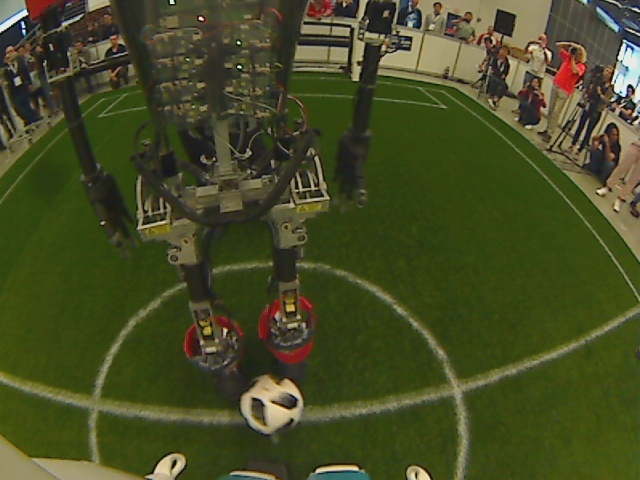ball: (235, 370, 307, 439)
